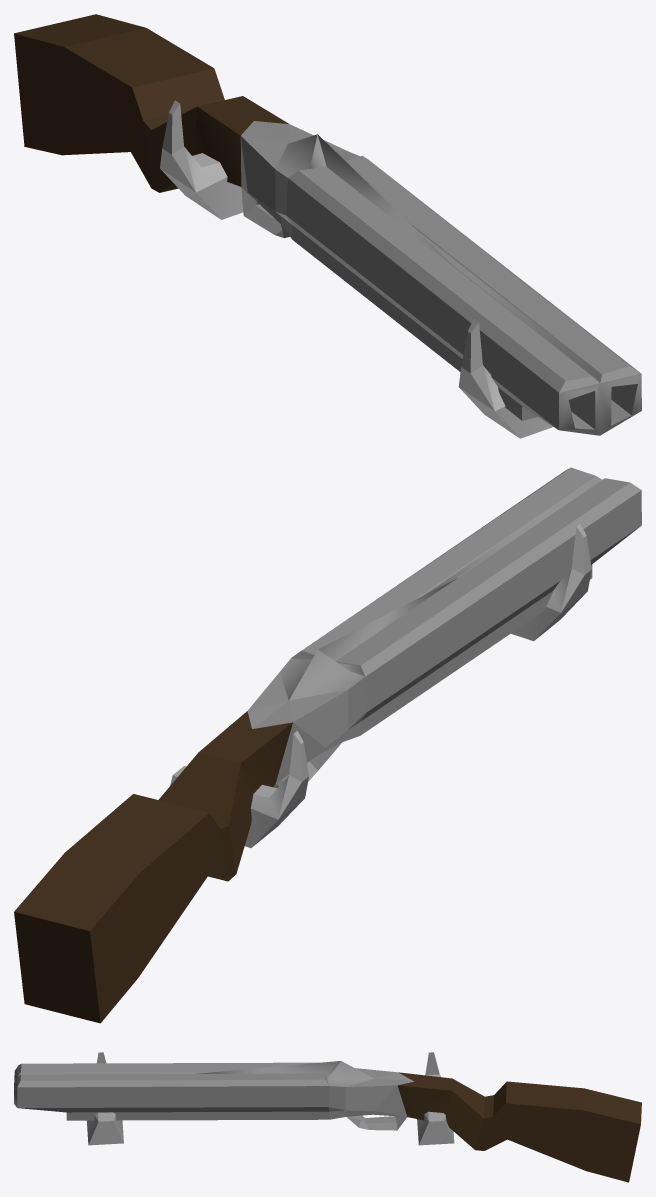
File: Escopeta.fbx
3 renders of one model, top to bottom at view 1: azimuth 30°, elevation 25°; view 2: azimuth 150°, elevation 25°; view 3: azimuth 270°, elevation 25°, orthographic. The views are drawn at different scales.
Visible parts, largest first — view 1: pCube6, pCube14; view 2: pCube6, pCube14; view 3: pCube6, pCube14.
Part boxes in pixels (x1=…): pCube6: x1=14, y1=14, x2=641, y2=435; pCube14: x1=160, y1=100, x2=553, y2=438; pCube6: x1=14, y1=467, x2=641, y2=1023; pCube14: x1=170, y1=524, x2=591, y2=847; pCube6: x1=14, y1=1061, x2=641, y2=1182; pCube14: x1=87, y1=1052, x2=454, y2=1145.
Bounding box in the file's own units: 0.3738 × 0.5187 × 2.72.
